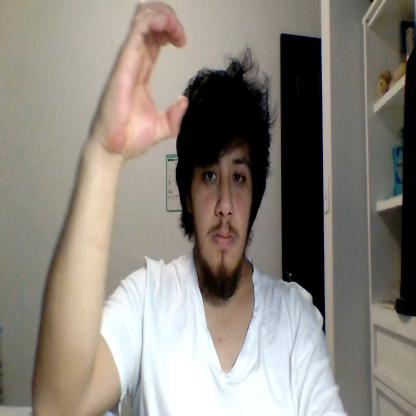C: (100, 1, 188, 159)
